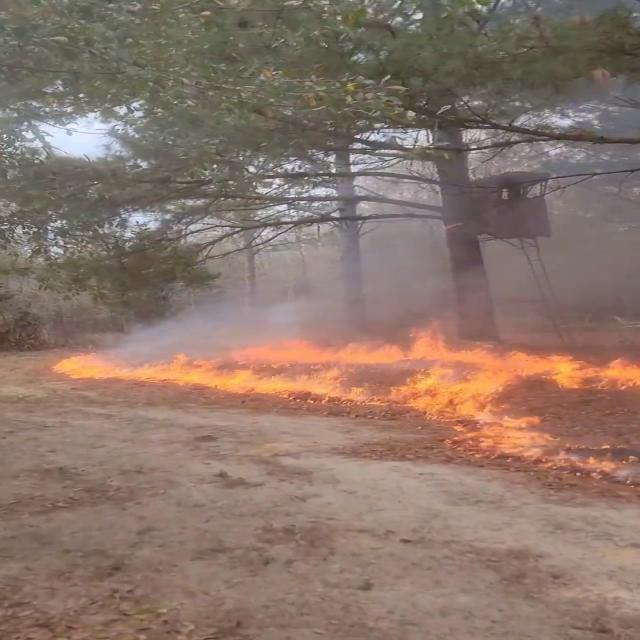Fire: (46, 324, 638, 448)
Smoke: (160, 170, 640, 344)
